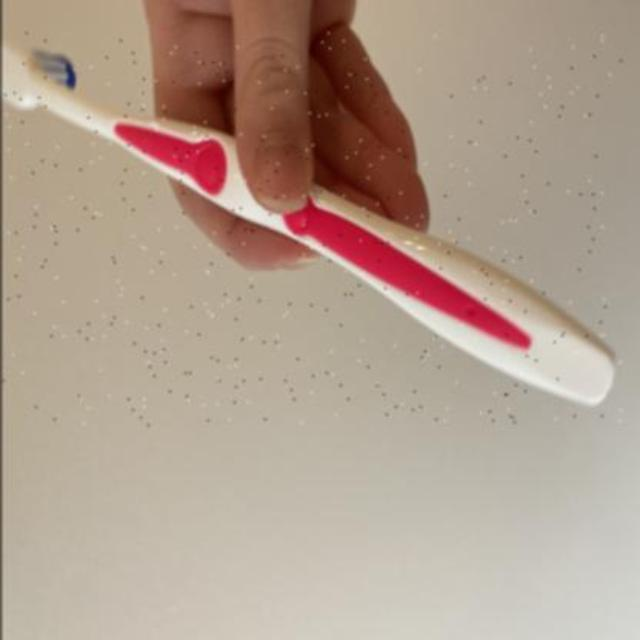toothbrush: (0, 31, 620, 426)
